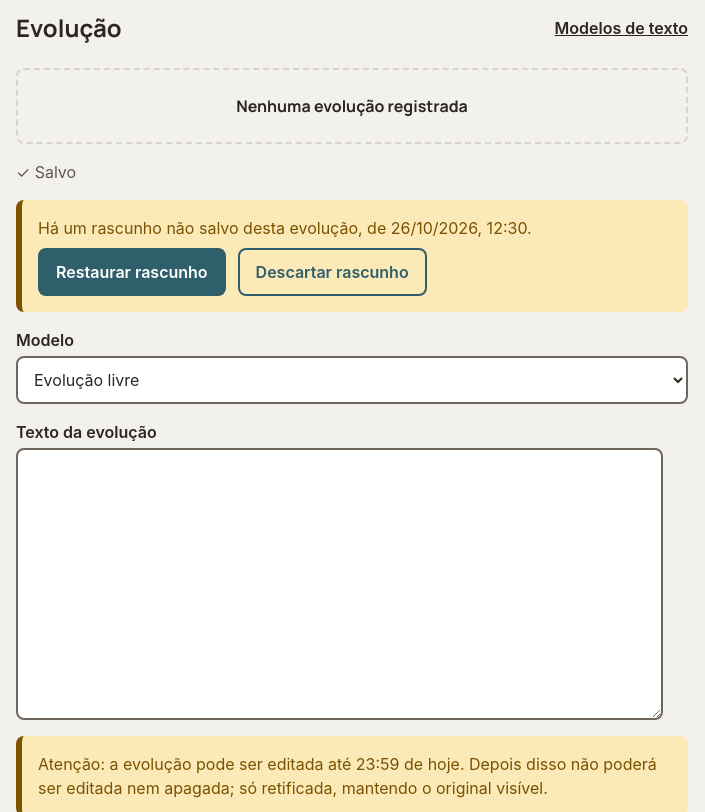
Test case: Rascunho oferecido depois da sessão expirar (RAS-04) › no formulário de nova evolução também oferece o rascunho guardado (ref = paciente)
The image size is (705, 812).
Click the button "Restaurar rascunho": {"x": 132, "y": 272} [38,248,226,296]
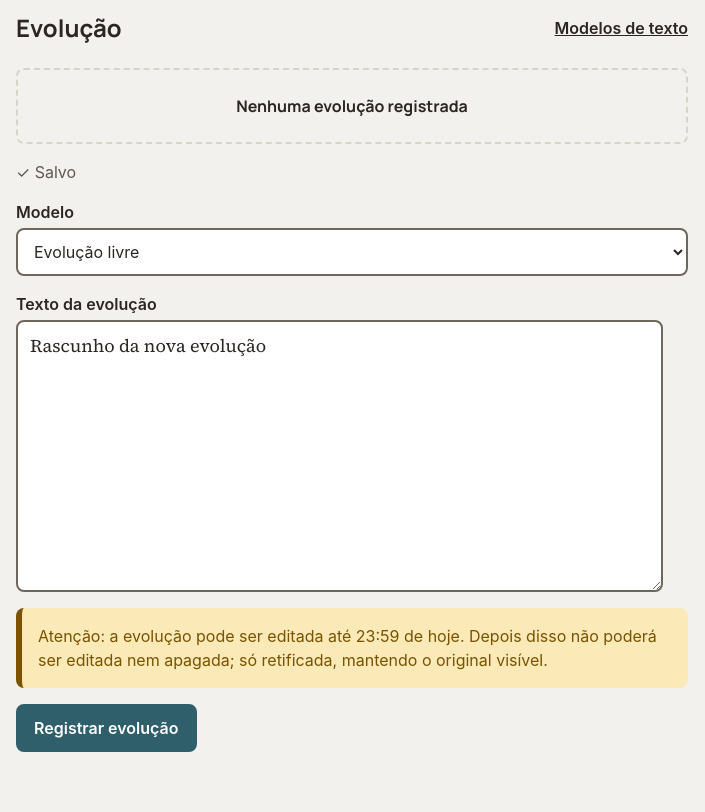
Now the text box labelled "Texto da evolução" holds "Rascunho da nova evolução", box [16,320,664,592]
